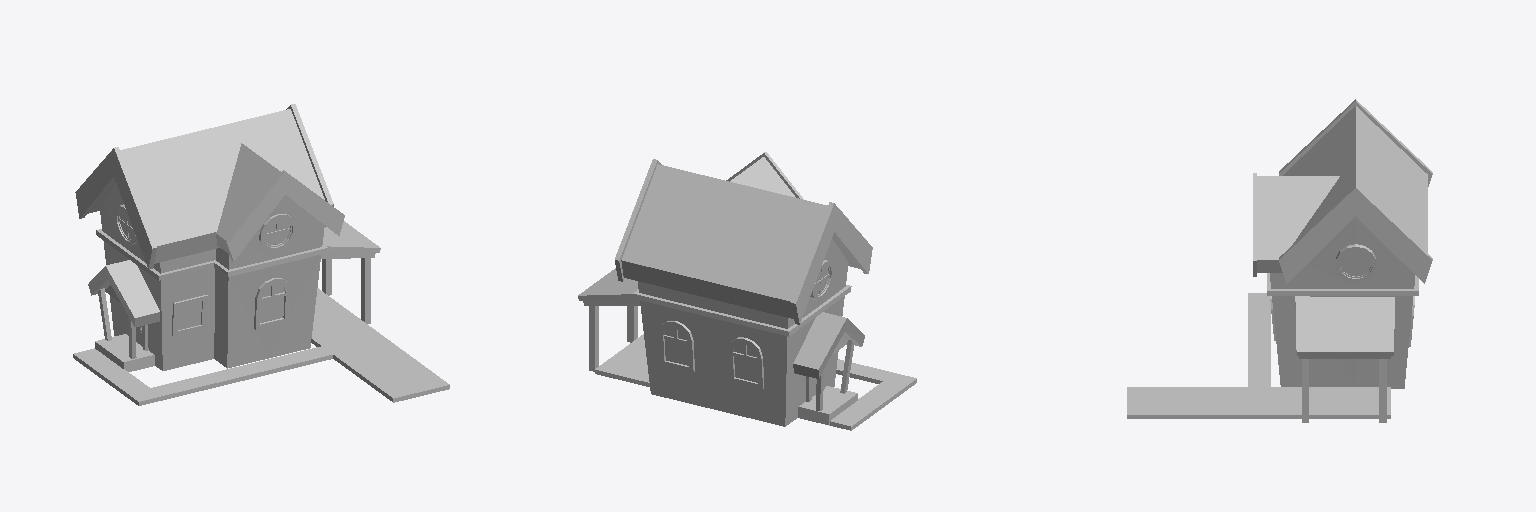
The model's file is House_05.obj.
3 views of the same model, side by side, from view 1: azimuth 30°, elevation 25°; view 2: azimuth 150°, elevation 25°; view 3: azimuth 270°, elevation 25° (orthographic).
Parts seen in each view (by area): view 1: House_05; view 2: House_05; view 3: House_05.
Boxes of the visible parts, <box> form: House_05: <box>73,104,449,405</box>; House_05: <box>578,152,916,430</box>; House_05: <box>1127,99,1432,422</box>.
Bounding box in the file's own units: 597 × 454 × 593.